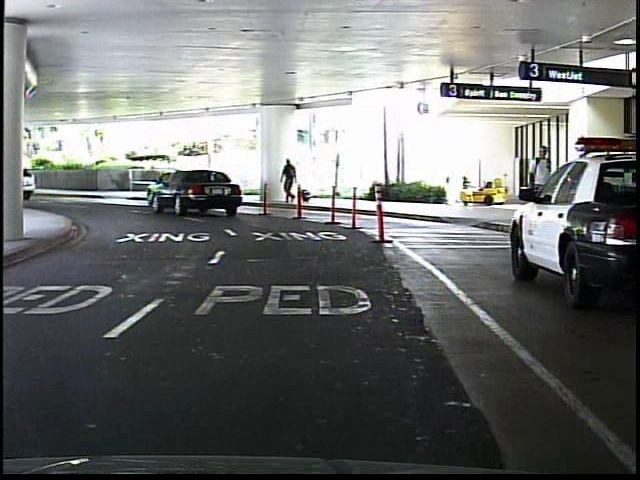person: (525, 141, 554, 234), (276, 158, 304, 209)
